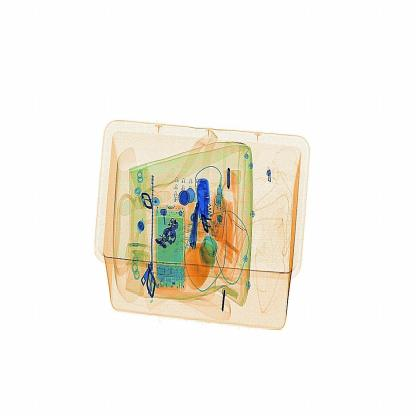scissors: (186, 168, 218, 228)
